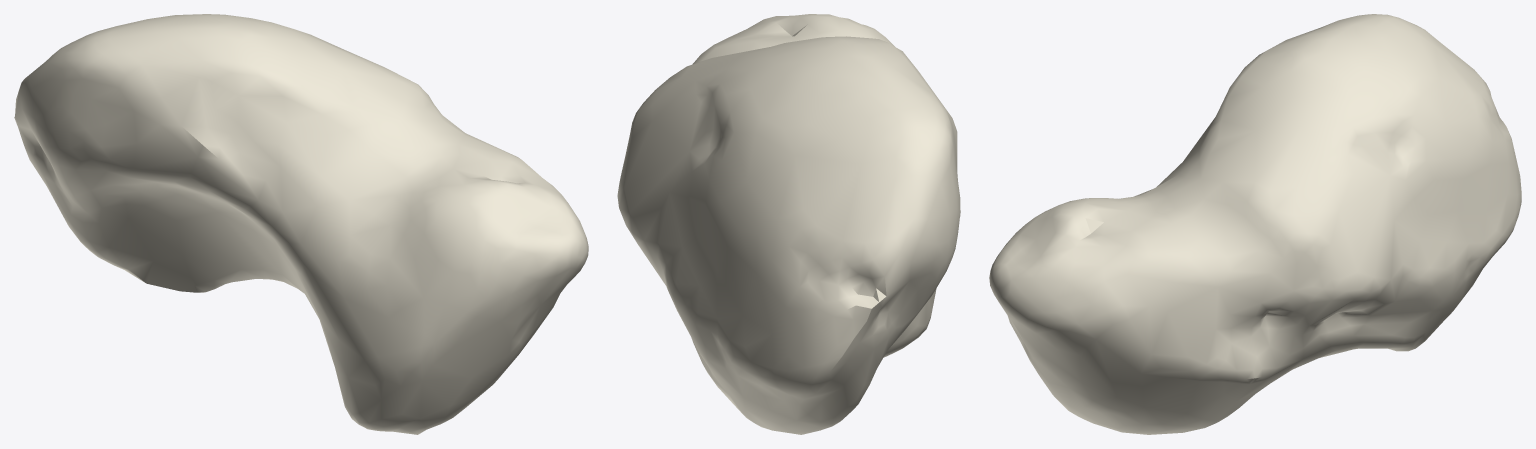
The model's file is fma24436_mm1904m.glb.
The picture shows the model from 3 angles, left to right: view 1: azimuth 30°, elevation 25°; view 2: azimuth 150°, elevation 25°; view 3: azimuth 270°, elevation 25°; orthographic projection. The views are drawn at different scales.
Visible parts, largest first — view 1: FMA24436_MM1904M; view 2: FMA24436_MM1904M; view 3: FMA24436_MM1904M.
Boxes of the visible parts, x1,y1,x2,y2 form: FMA24436_MM1904M: (14, 14, 588, 434); FMA24436_MM1904M: (617, 14, 960, 434); FMA24436_MM1904M: (989, 14, 1521, 434).
Bounding box in the file's own units: 0.0175 × 0.0159 × 0.0223.
